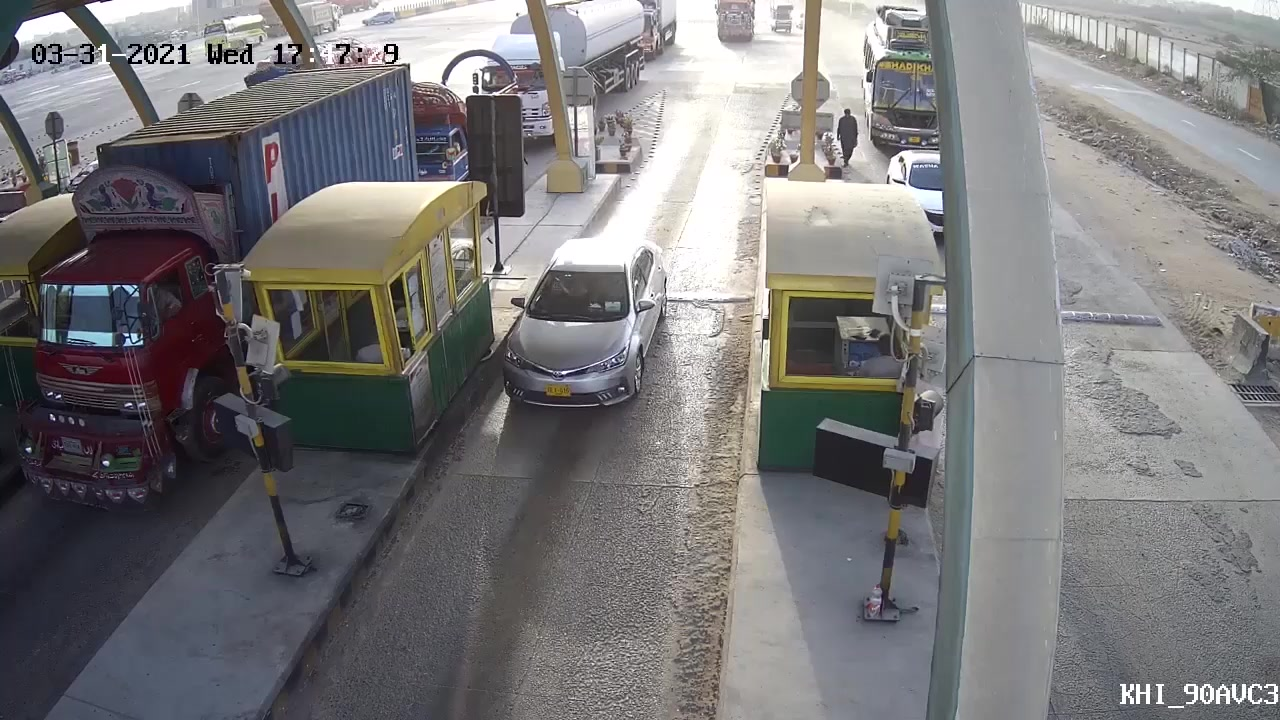F1: (485, 234, 672, 436)
